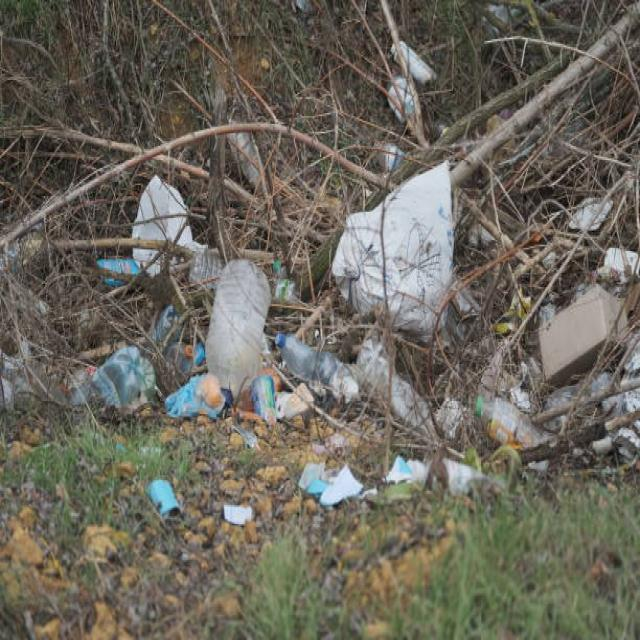plastic: (200, 256, 268, 428), (78, 340, 164, 430), (274, 326, 350, 394)
trash: (336, 180, 449, 340)
